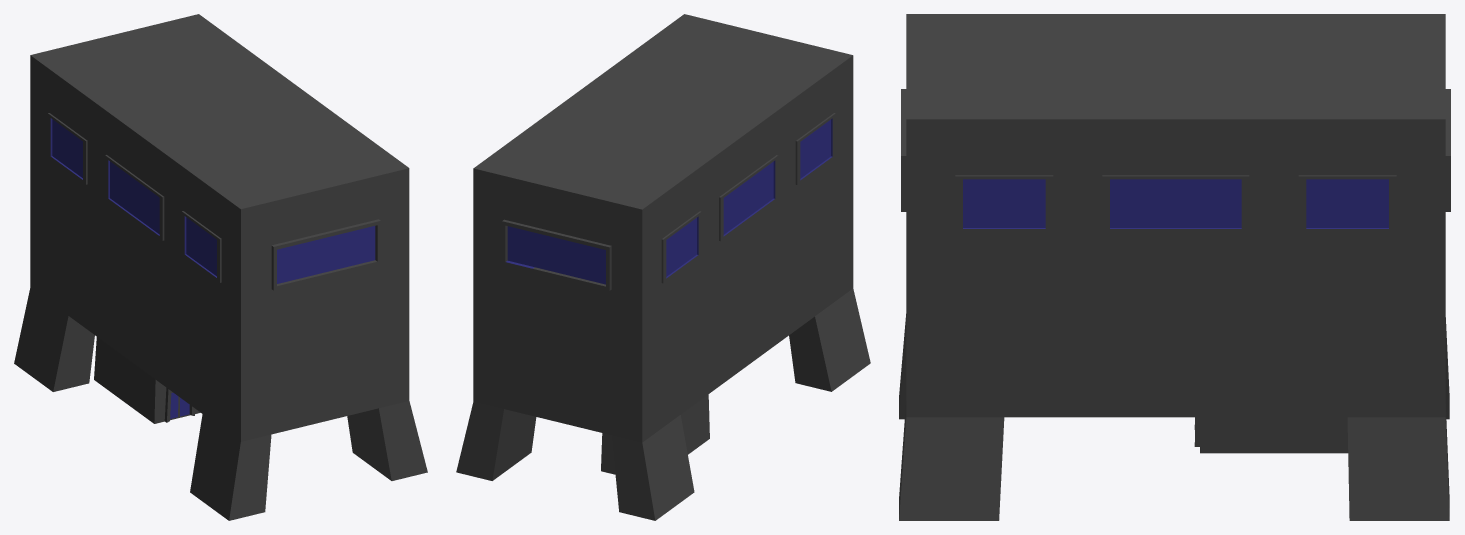
Rendered from 横長ビル.fbx.
3 views of the same model, side by side, from view 1: azimuth 30°, elevation 25°; view 2: azimuth 150°, elevation 25°; view 3: azimuth 270°, elevation 25° (orthographic). The views are drawn at different scales.
Parts seen in each view (by area): view 1: Cube; view 2: Cube; view 3: Cube.
Part boxes in pixels (<box>): Cube: <box>14,14,427,520</box>; Cube: <box>456,14,870,520</box>; Cube: <box>899,14,1450,520</box>.
Size of the model in its own units: 5577 by 8201 by 10469.
